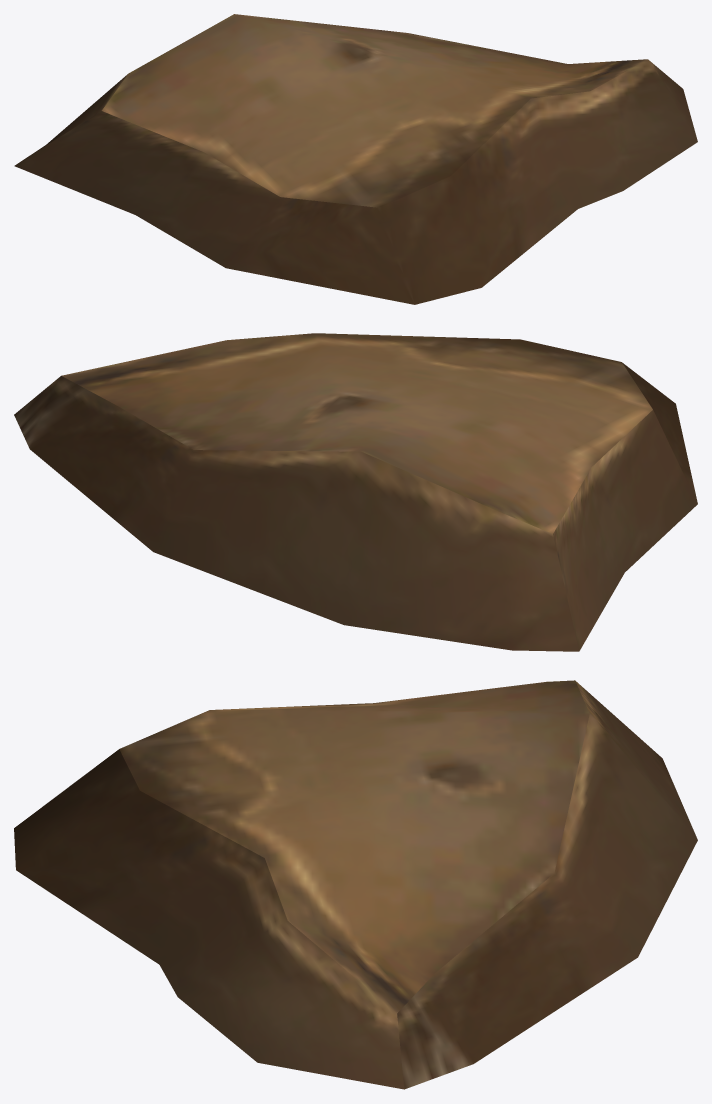
Rendered from D_shikuai001.fbx.
3 renders of one model, top to bottom at view 1: azimuth 30°, elevation 25°; view 2: azimuth 150°, elevation 25°; view 3: azimuth 270°, elevation 25°, orthographic. The views are drawn at different scales.
Parts seen in each view (by area): view 1: D_shikuai001; view 2: D_shikuai001; view 3: D_shikuai001.
Part boxes in pixels (left/top/right/bottom): D_shikuai001: left=14, top=14, right=697, bottom=304; D_shikuai001: left=14, top=333, right=697, bottom=651; D_shikuai001: left=14, top=680, right=697, bottom=1089.
Bounding box in the file's own units: 21.85 × 4.07 × 17.59.
